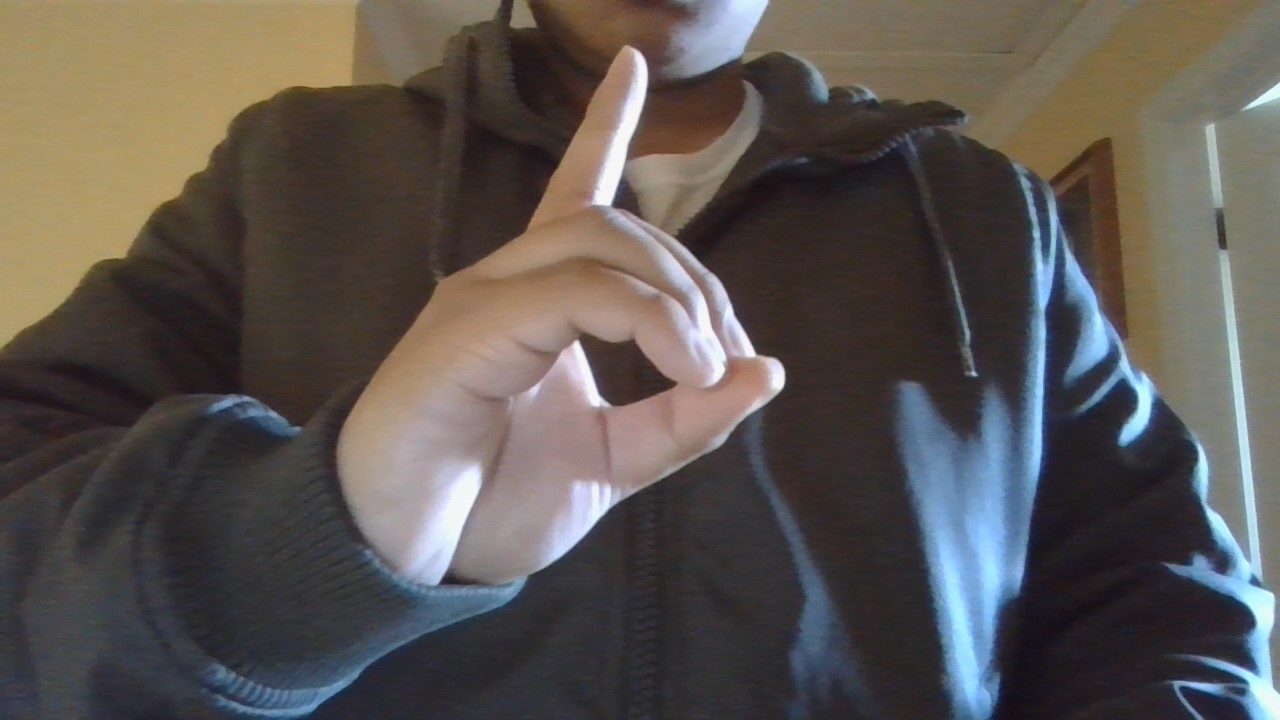d: (261, 27, 807, 631)
